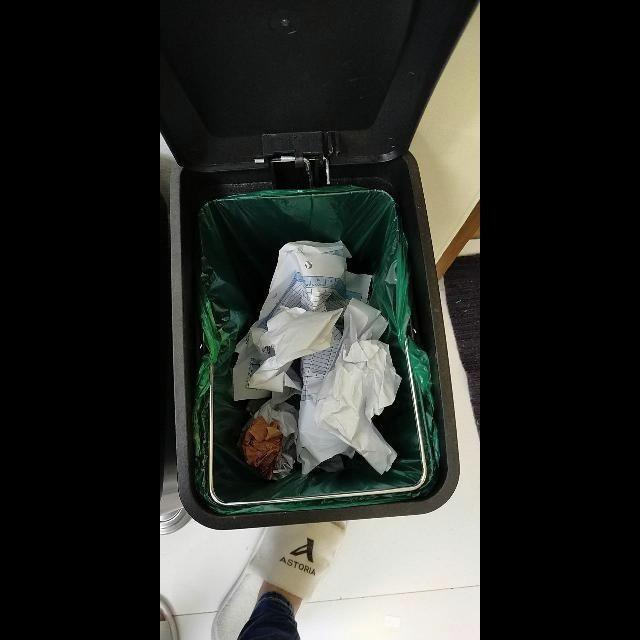paper: (233, 241, 372, 480), (314, 298, 402, 476), (248, 307, 343, 393), (237, 416, 284, 480)
